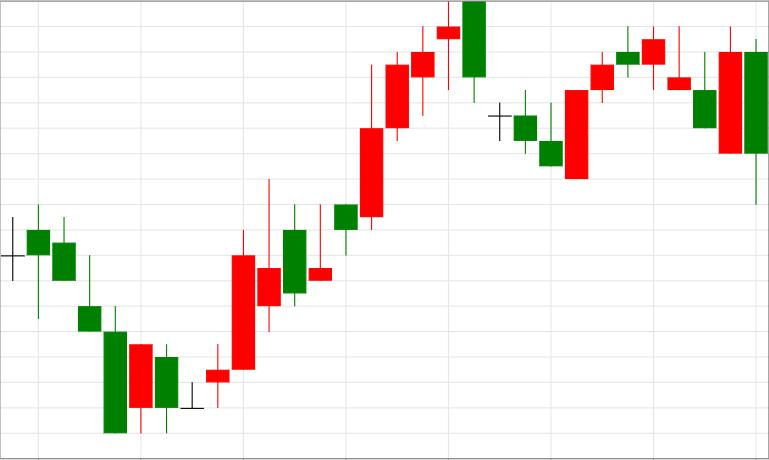bearish_engulfing_fall: (309, 1, 486, 281)
bullish_engulfing_rise: (462, 1, 588, 179)
